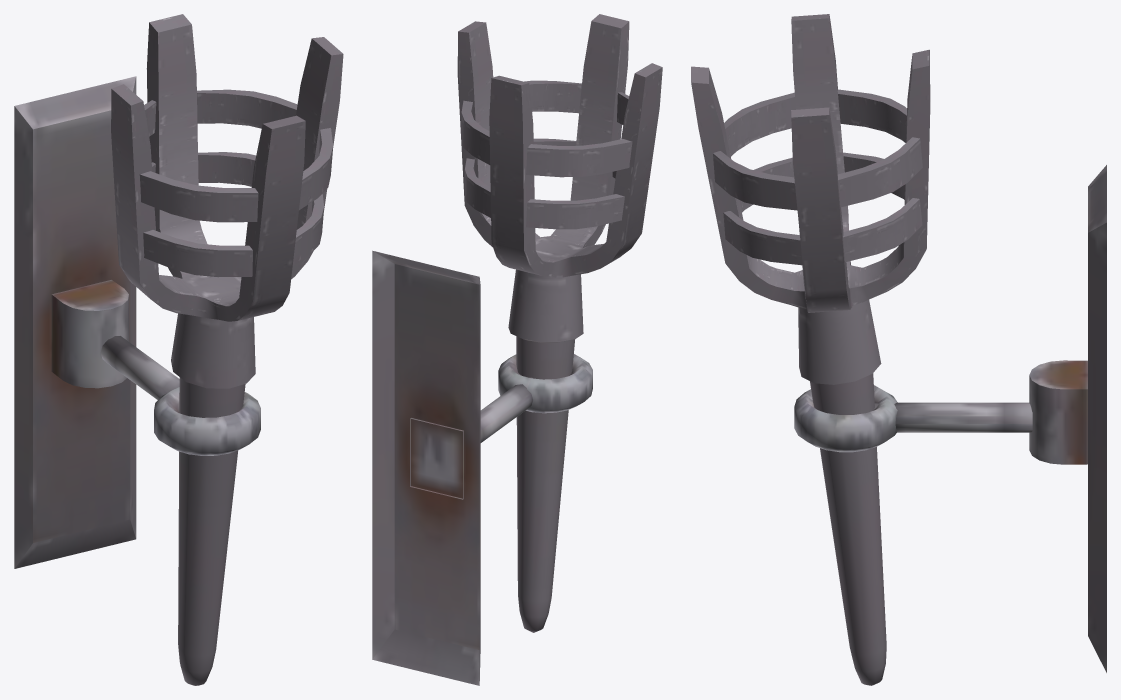
Rendered from torch.glb.
The picture shows the model from 3 angles, left to right: view 1: azimuth 30°, elevation 25°; view 2: azimuth 150°, elevation 25°; view 3: azimuth 270°, elevation 25°; orthographic projection. The views are drawn at different scales.
Parts seen in each view (by area): view 1: Plane_008; view 2: Plane_008; view 3: Plane_008.
Boxes of the visible parts, x1,y1,x2,y2 form: Plane_008: (14, 14, 343, 685); Plane_008: (372, 14, 662, 685); Plane_008: (691, 14, 1106, 685).
Bounding box in the file's own units: 0.2231 × 0.6482 × 0.3884.
Materials: 1 (1 with a texture image).
